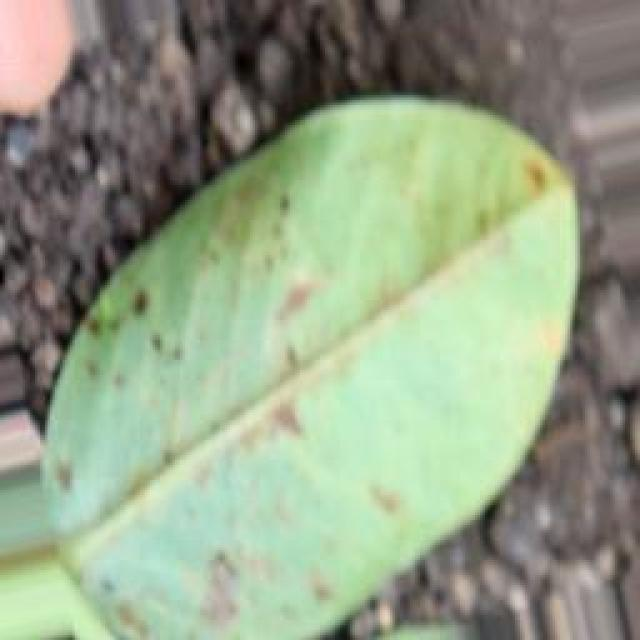Whitefly: (79, 160, 534, 625)
